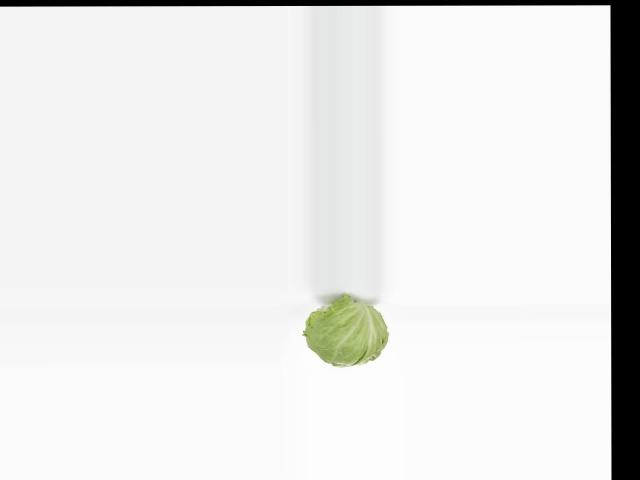lettuce: (300, 303, 393, 368)
